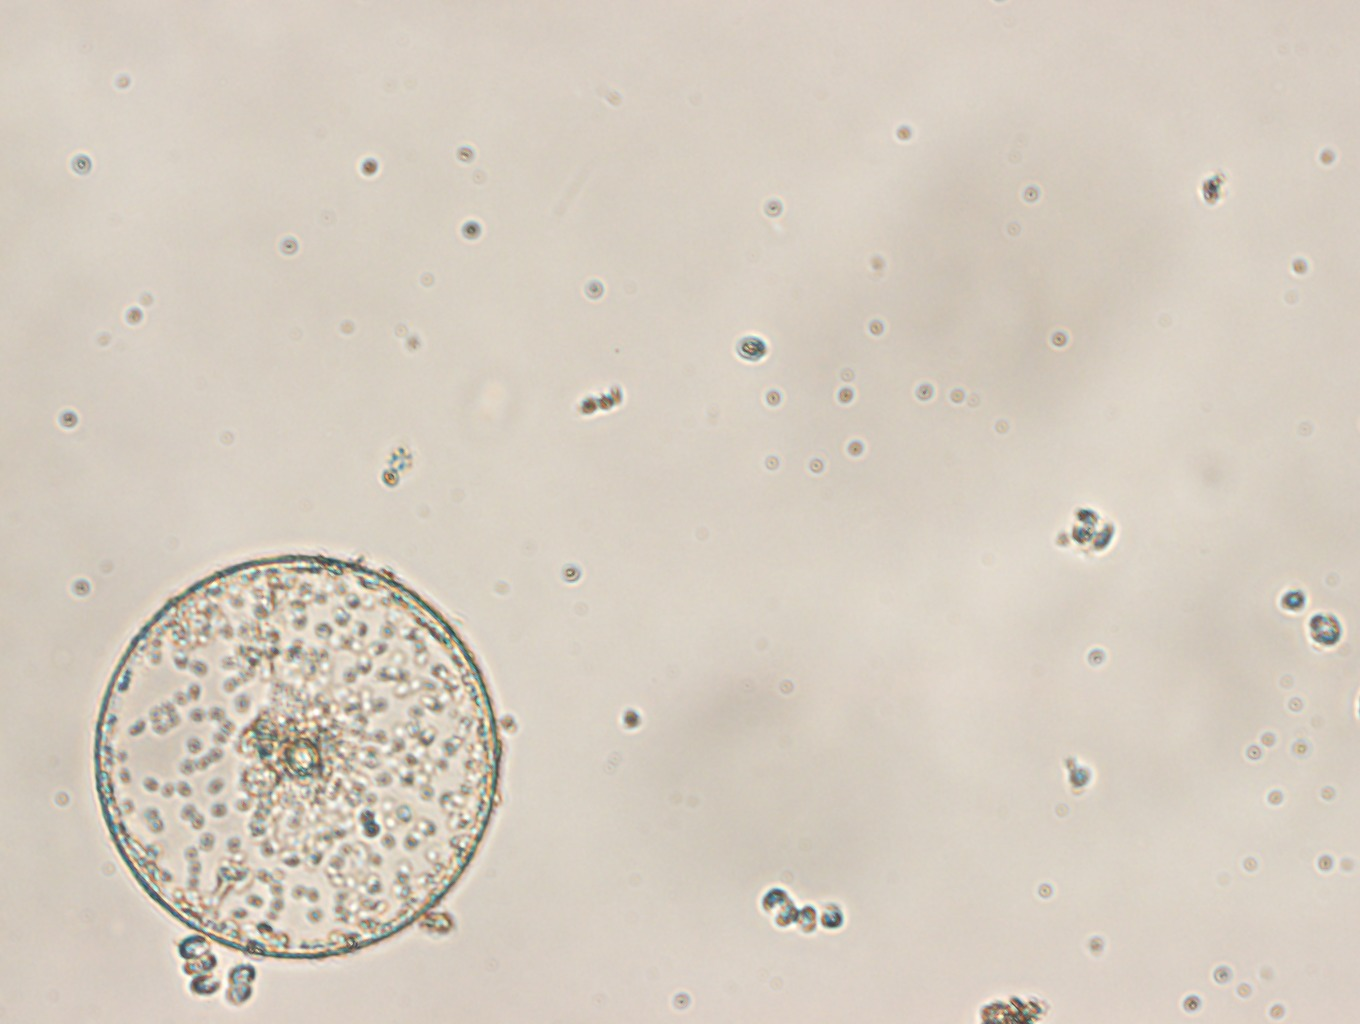coscinodiscus: (91, 552, 499, 963)
